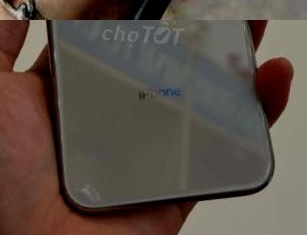physical_damage: (68, 175, 111, 211)
